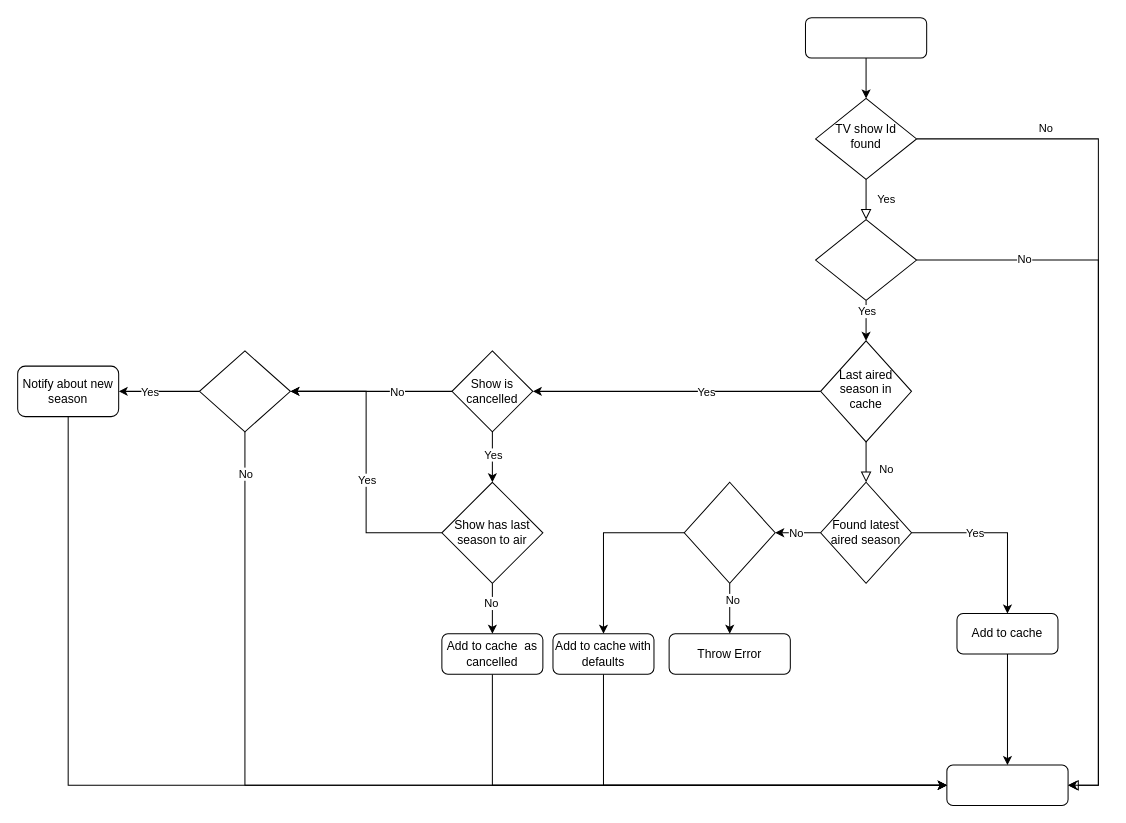
Image size: 1126x823. Some labels were removed from this diagram. The shapes that lost their labels are listed below. From the top down, each one's centre as x and y in pixels, then its label:
the point at 865,37: TV show name
the point at 866,259: Show is on-going
the point at 244,391: Upcoming season aired
the point at 729,532: Season is upcoming
the point at 1007,784: Exit
